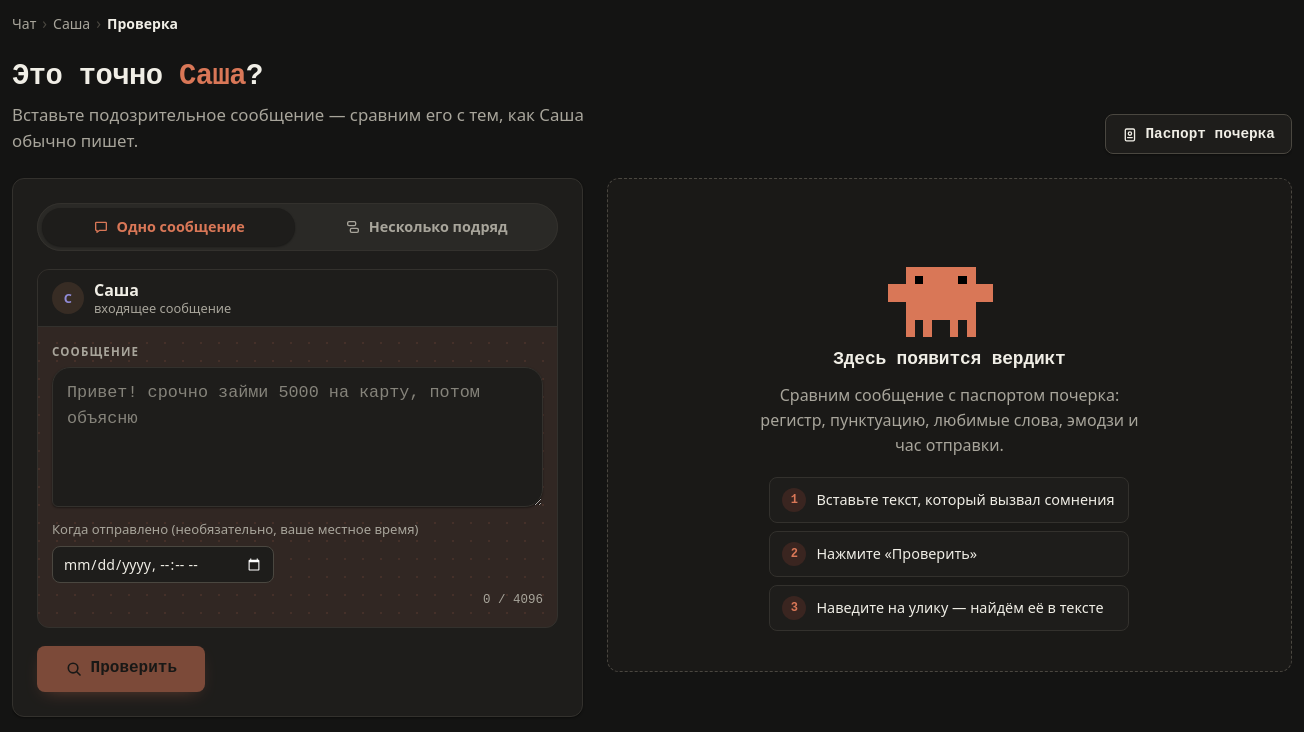
текст из одних ссылок и упоминаний: «нет почерка», а не «мало данных об авторе»
Type "https://t.me/x @sasha" into the text box labelled "Сообщение" at (297, 437), box x1=52 y1=367 x2=543 y2=507
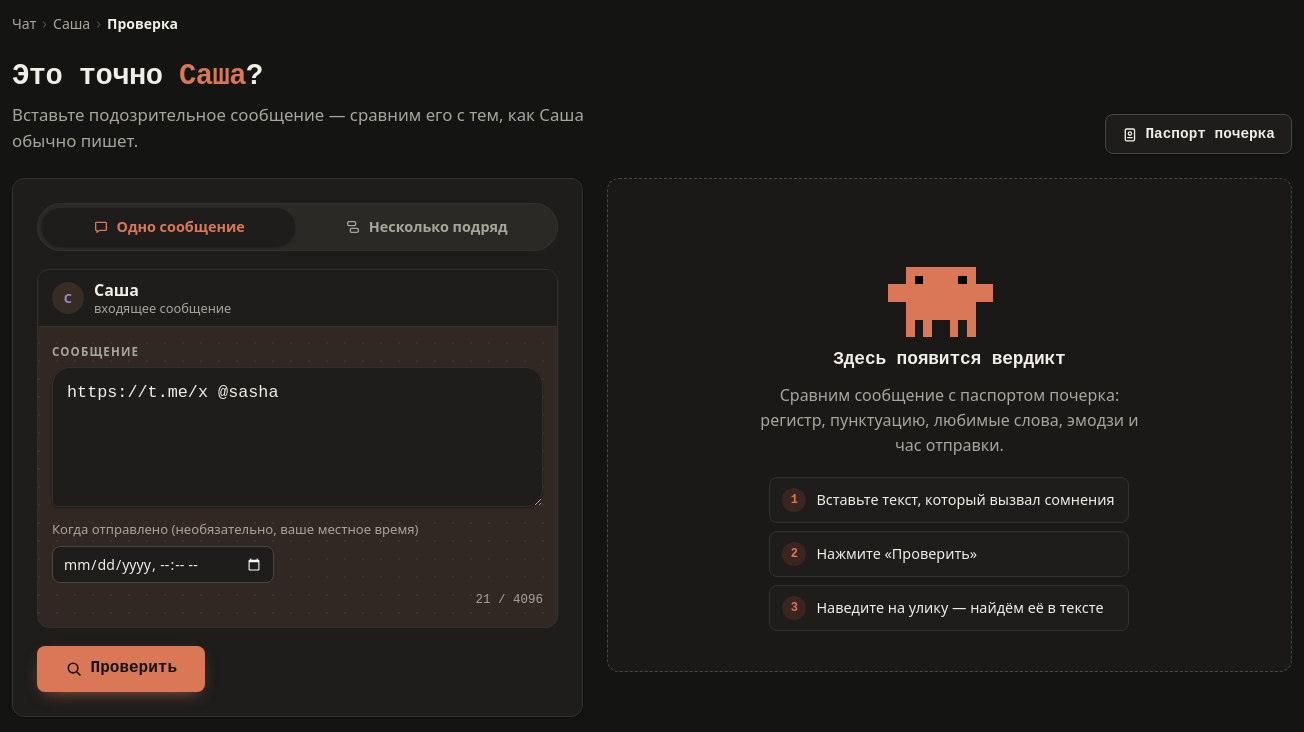
Click the button "Проверить" at (121, 669), box x1=37 y1=646 x2=205 y2=692
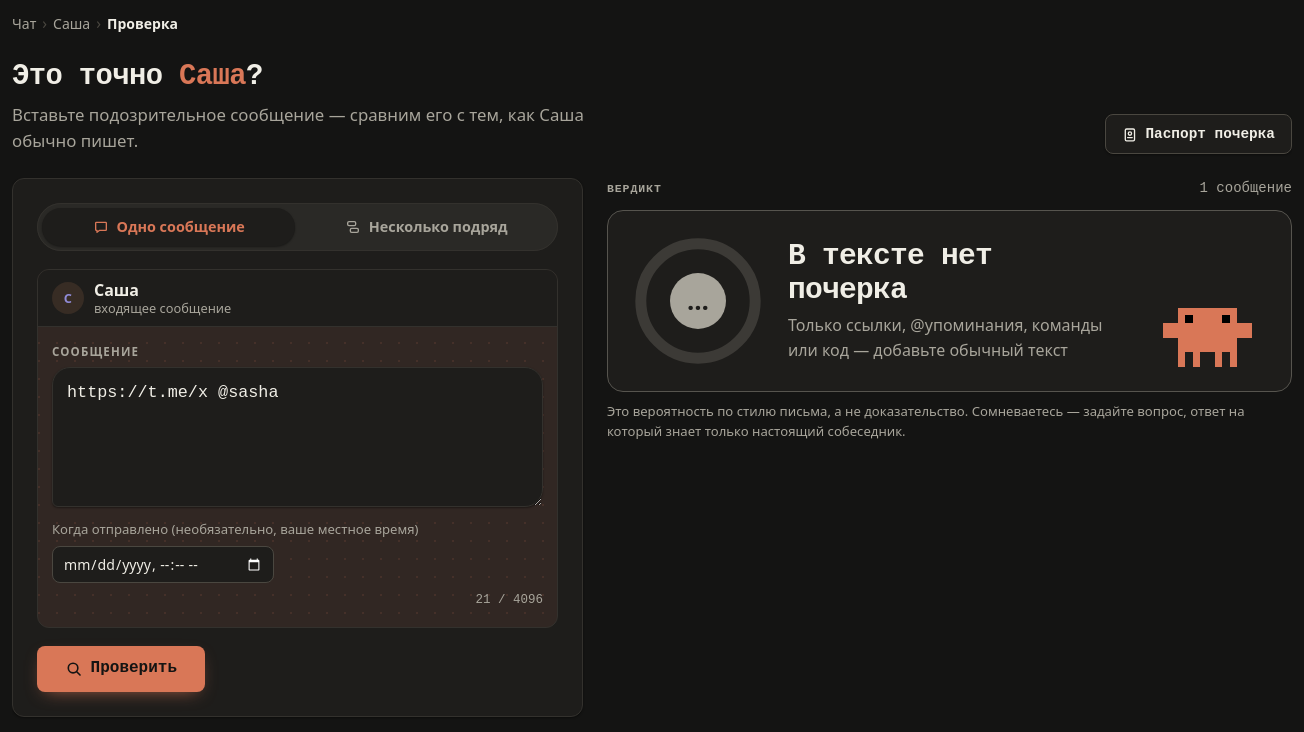
Now the text "В тексте нет почерка" is shown, box x1=788 y1=239 x2=992 y2=307
